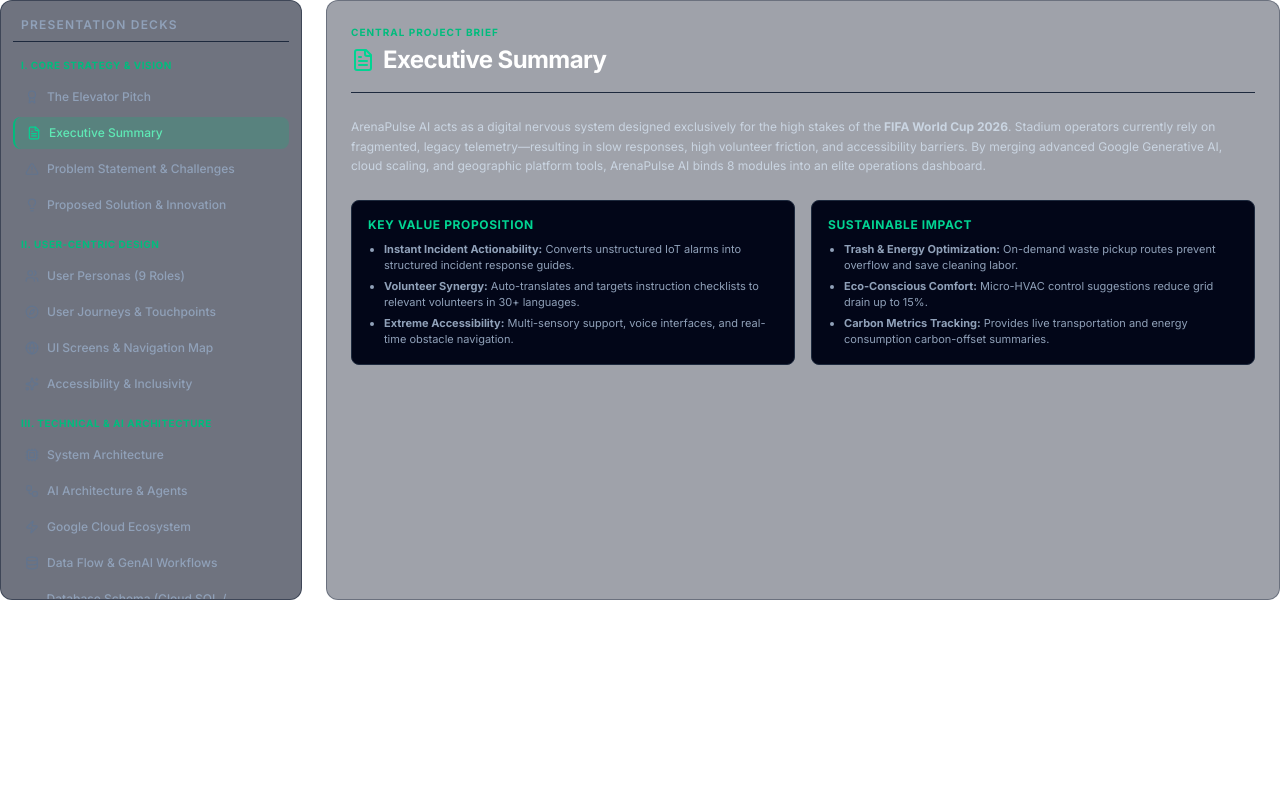
Test case: ProposalViewer Component › switches to Accessibility & Inclusivity slide
Click the button "Accessibility & Inclusivity". click: click(151, 384)
box: [13,368,289,400]
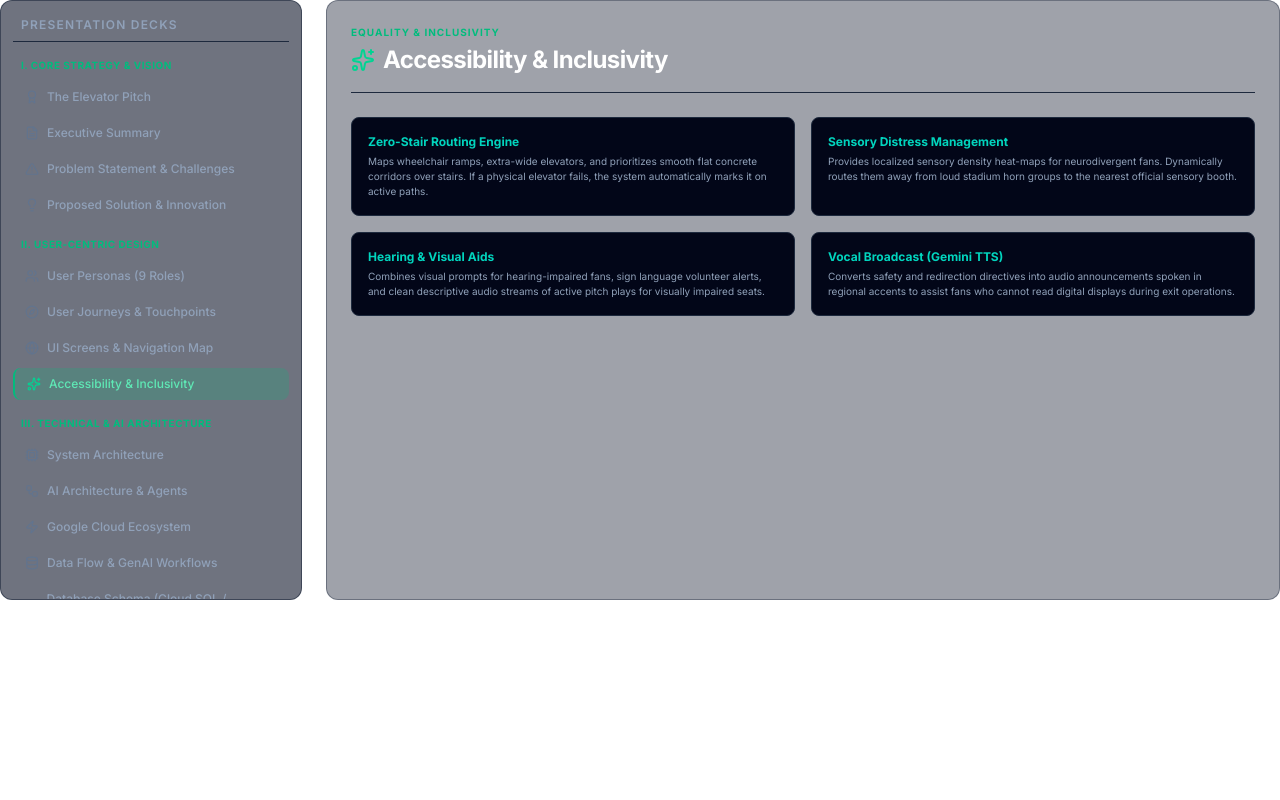
Result: the heading "Accessibility & Inclusivity" is shown at [351,45,668,74]
Result: the text "EQUALITY & INCLUSIVITY" is shown at [351,26,500,38]
Result: the heading "Zero-Stair Routing Engine" is shown at [368,134,519,149]
